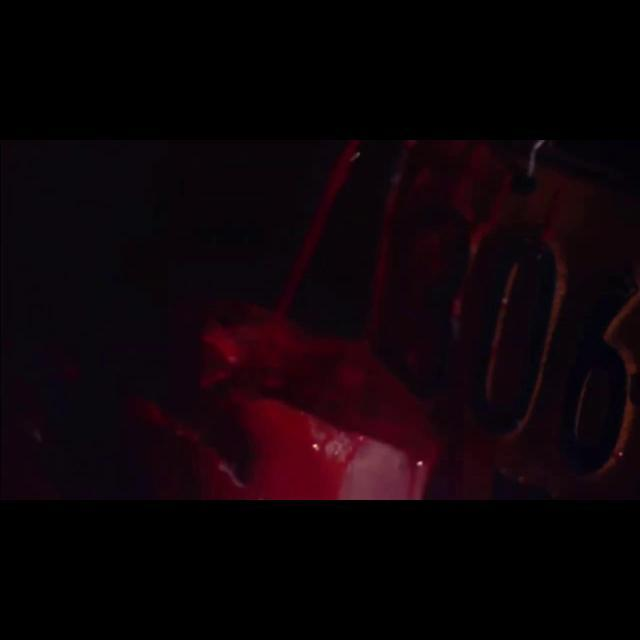blood: (128, 308, 440, 500)
